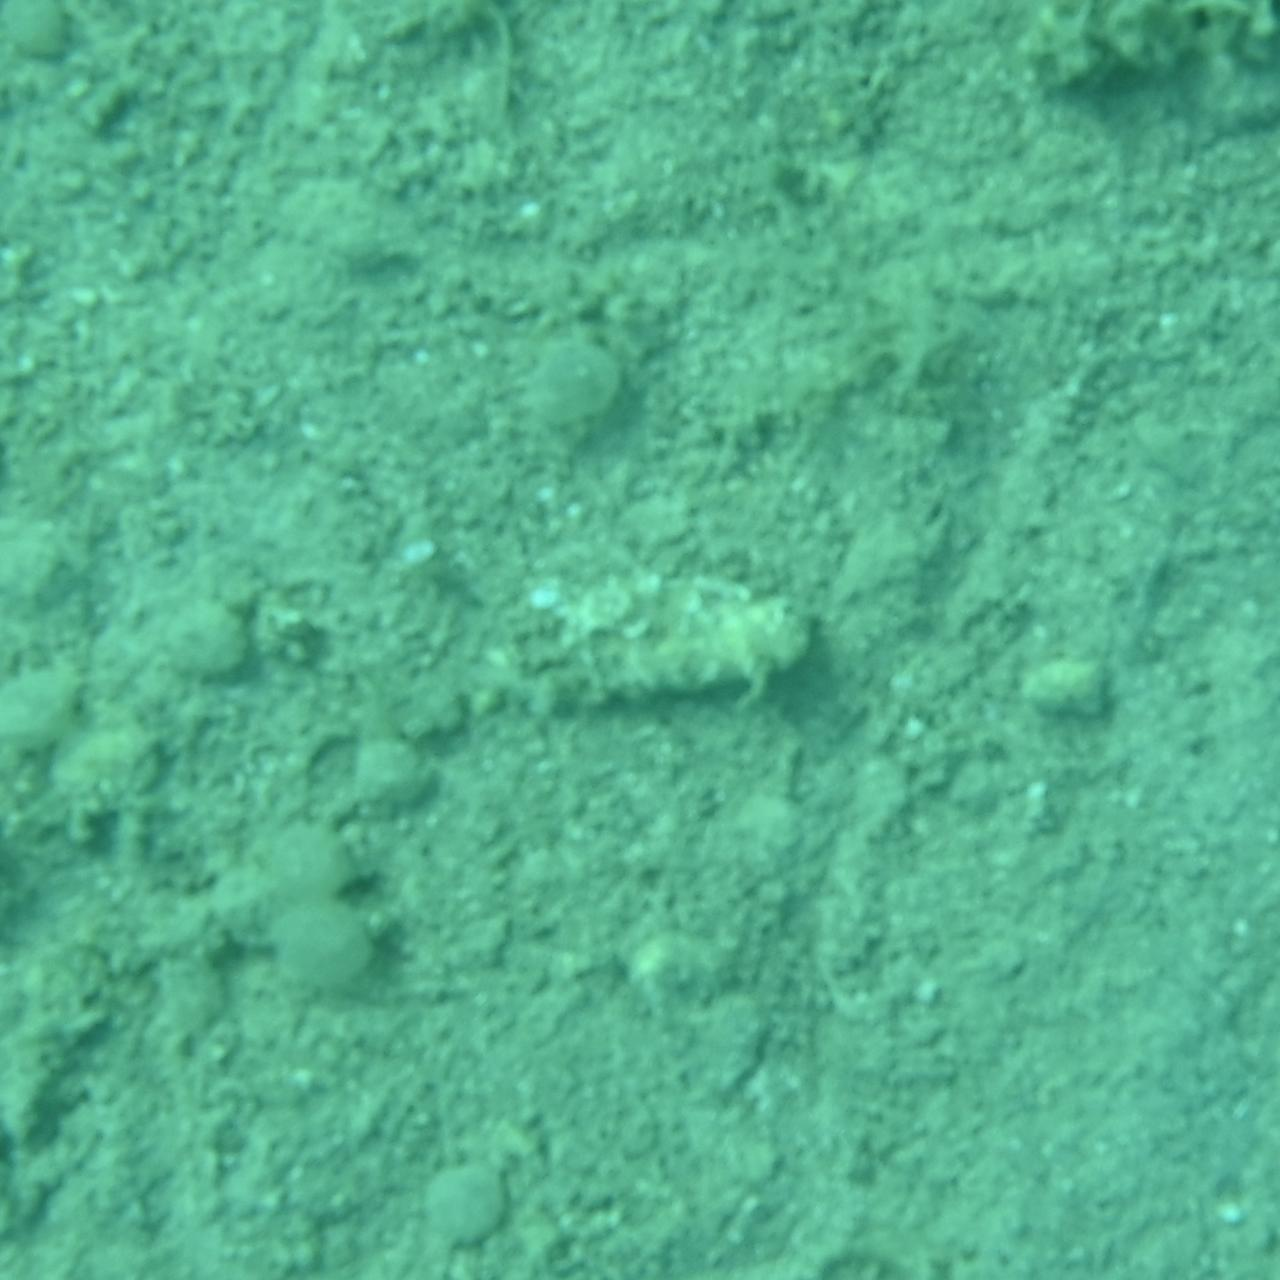Gobius sp: (451, 550, 829, 730)
